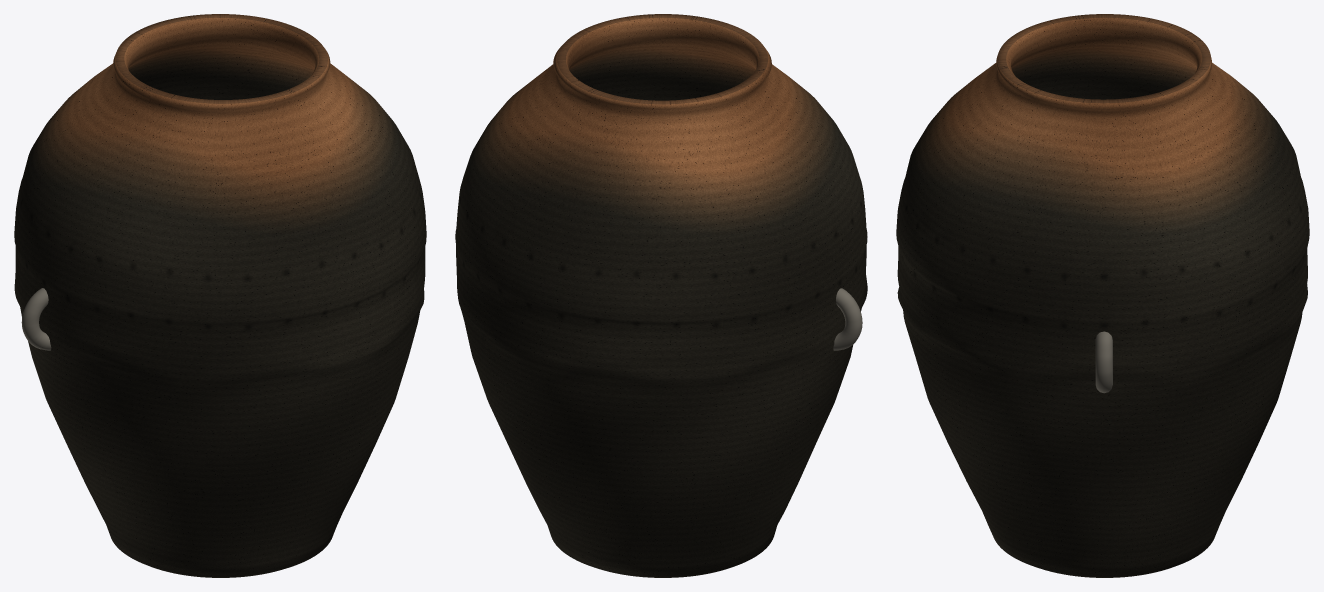
Rendered from bcm-1072-storage-jar.glb.
3 views of the same model, side by side, from view 1: azimuth 30°, elevation 25°; view 2: azimuth 150°, elevation 25°; view 3: azimuth 270°, elevation 25° (orthographic).
Visible parts, largest first — view 1: Onggi | hollow thrown body, Side handle 2; view 2: Onggi | hollow thrown body, Side handle 2; view 3: Onggi | hollow thrown body, Side handle 1.
Boxes of the visible parts, left/top/right/bottom form: Onggi | hollow thrown body: left=14, top=14, right=426, bottom=577; Side handle 2: left=21, top=288, right=51, bottom=350; Onggi | hollow thrown body: left=455, top=14, right=867, bottom=577; Side handle 2: left=833, top=288, right=862, bottom=350; Onggi | hollow thrown body: left=896, top=14, right=1309, bottom=577; Side handle 1: left=1095, top=331, right=1112, bottom=393.
Size of the model in its own units: 0.372 by 0.424 by 0.335.
Materials: 2 (1 with a texture image).
